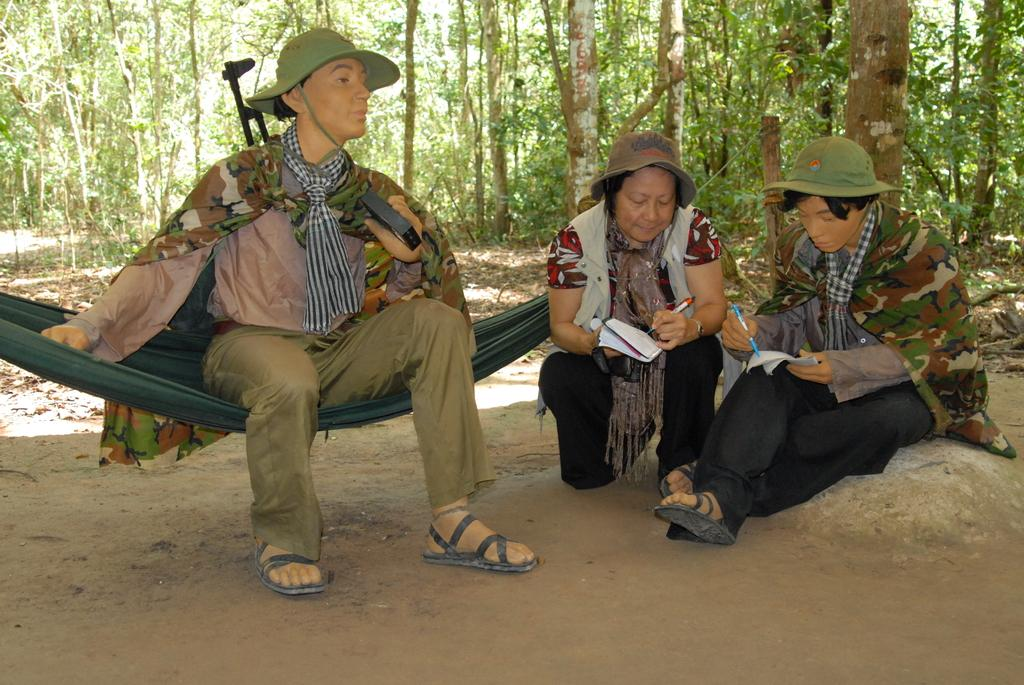Hat: (242, 23, 400, 164), (585, 130, 700, 282), (764, 134, 906, 222)
